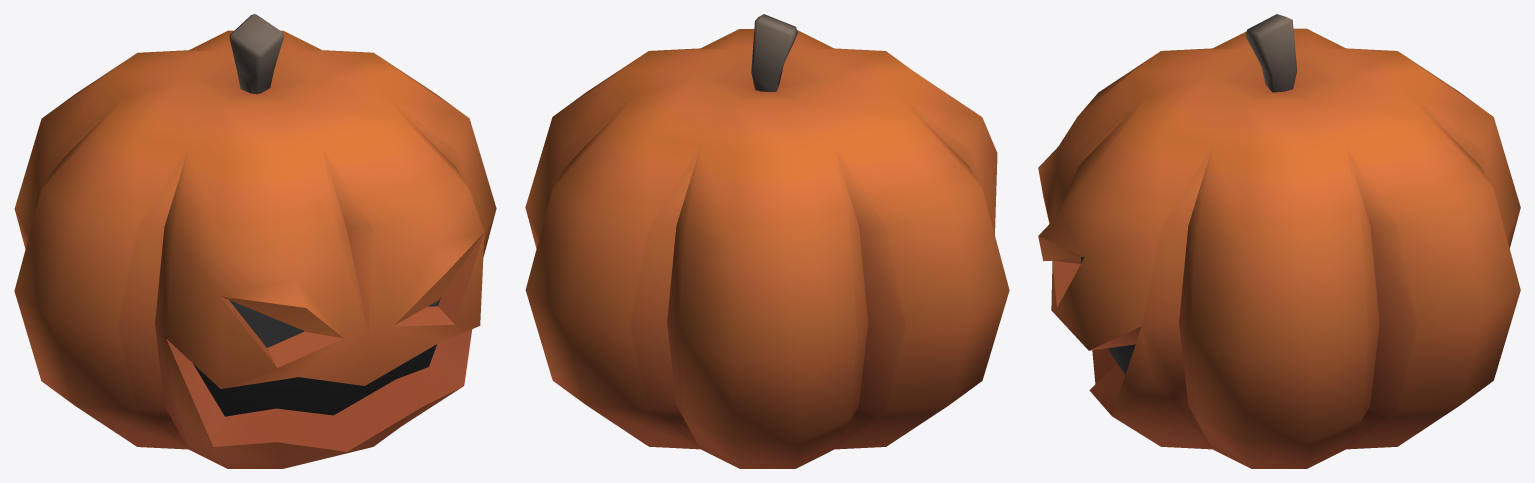
The model's file is kay-abobora-lanterna.gltf.
3 views of the same model, side by side, from view 1: azimuth 30°, elevation 25°; view 2: azimuth 150°, elevation 25°; view 3: azimuth 270°, elevation 25° (orthographic).
Parts seen in each view (by area): view 1: pumpkin_orange_jackolantern; view 2: pumpkin_orange_jackolantern; view 3: pumpkin_orange_jackolantern.
Part boxes in pixels (<box>): pumpkin_orange_jackolantern: <box>14,14,496,468</box>; pumpkin_orange_jackolantern: <box>525,14,1009,468</box>; pumpkin_orange_jackolantern: <box>1038,14,1520,468</box>.
Size of the model in its own units: 0.75 by 0.65 by 0.7.
1 material, 1 textured.
